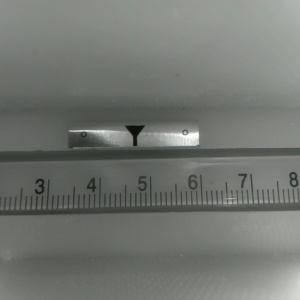3: (33, 179, 44, 194)
4: (85, 178, 96, 193)
5: (137, 176, 146, 192)
6: (187, 174, 197, 189)
7: (238, 174, 248, 188)
8: (288, 171, 298, 187)
finger: (123, 125, 144, 146)
